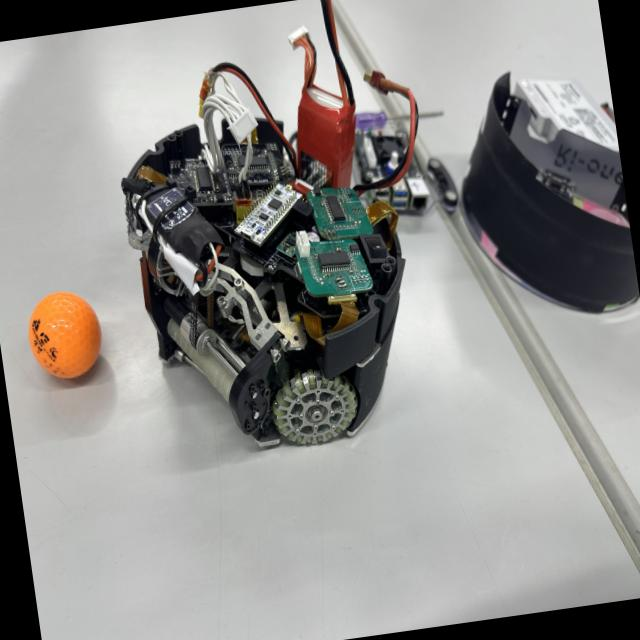ball: (24, 282, 114, 392)
